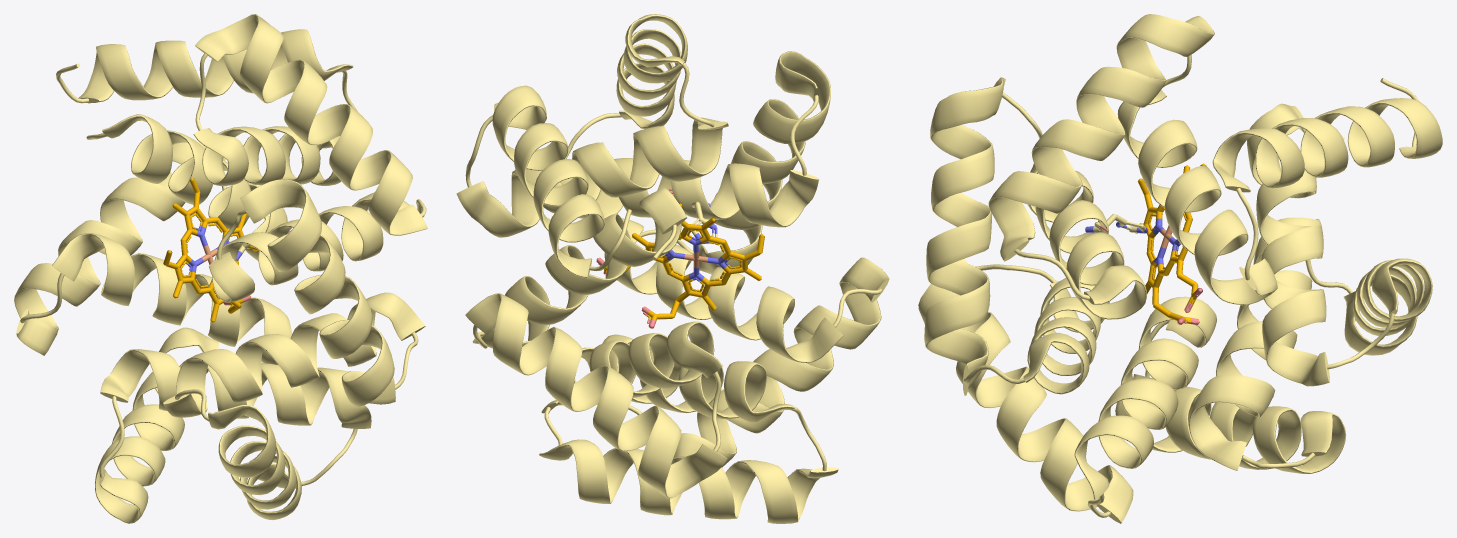
Rendered from dnHEM1.gltf.
The picture shows the model from 3 angles, left to right: view 1: azimuth 30°, elevation 25°; view 2: azimuth 150°, elevation 25°; view 3: azimuth 270°, elevation 25°; orthographic projection. The views are drawn at different scales.
Visible parts, largest first — view 1: node-geom22, node-geom21; view 2: node-geom21, node-geom22; view 3: node-geom22, node-geom21.
Part boxes in pixels (x1,y1,x2,y2): node-geom22: (56, 14, 427, 417); node-geom21: (14, 114, 371, 523); node-geom21: (465, 188, 889, 523); node-geom22: (456, 14, 843, 362); node-geom22: (924, 14, 1442, 395); node-geom21: (918, 103, 1432, 523).
Size of the model in its own units: 3.22e-09 by 4.49e-09 by 4.2e-09.
